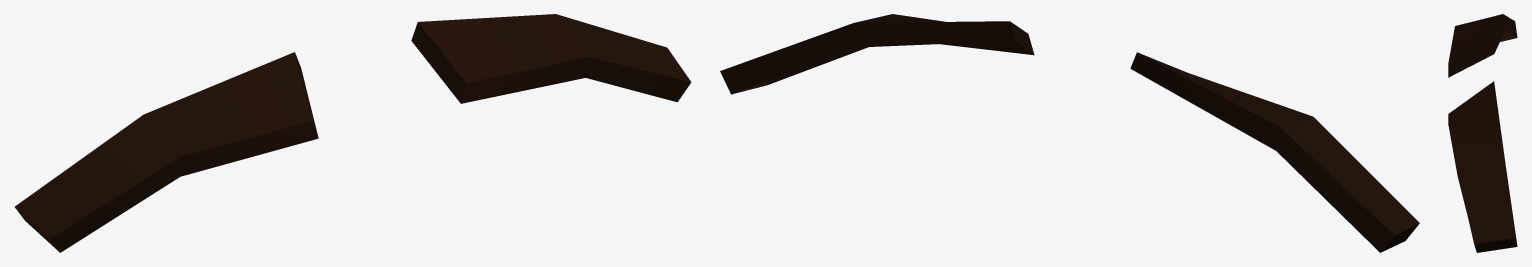
Rendered from Brow 03.FBX.
3 renders of one model, left to right at view 1: azimuth 30°, elevation 25°; view 2: azimuth 150°, elevation 25°; view 3: azimuth 270°, elevation 25°, orthographic. The views are drawn at different scales.
Visible parts, largest first — view 1: Brow 03; view 2: Brow 03; view 3: Brow 03.
Boxes of the visible parts, x1,y1,x2,y2 form: Brow 03: [14, 14, 691, 252]; Brow 03: [720, 14, 1419, 252]; Brow 03: [1448, 14, 1517, 252].
Bounding box in the file's own units: 22.49 × 3.02 × 4.33.
